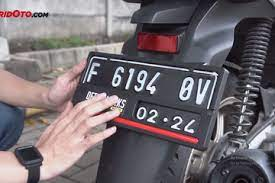plat nomor: (72, 51, 223, 151)
